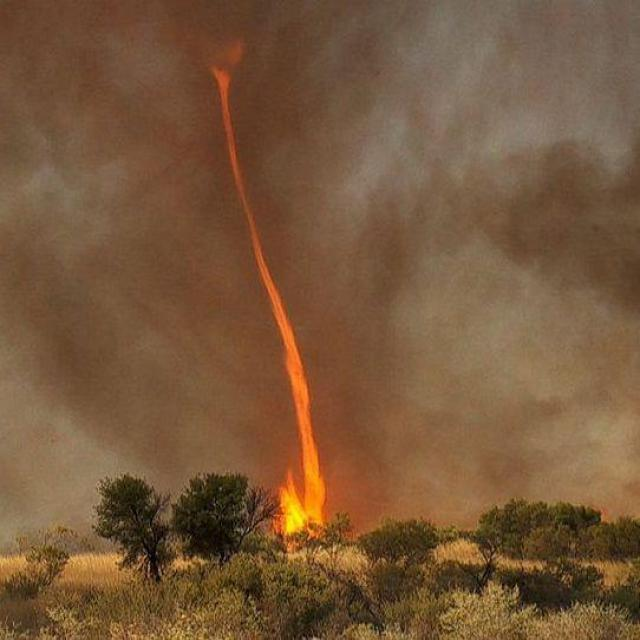Fire: (210, 0, 354, 534), (278, 474, 302, 536)
Smoke: (406, 19, 624, 484), (0, 1, 190, 462)
